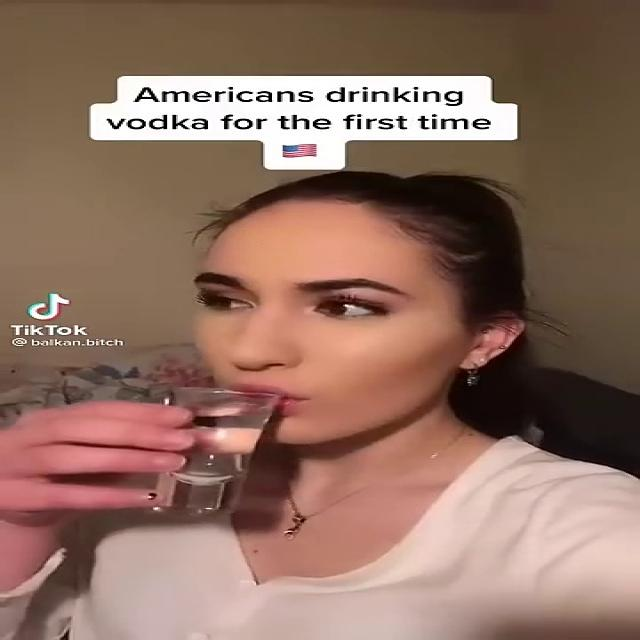Cup: (148, 386, 283, 516)
Hand: (0, 395, 215, 535)
Mouth: (213, 379, 317, 411)
